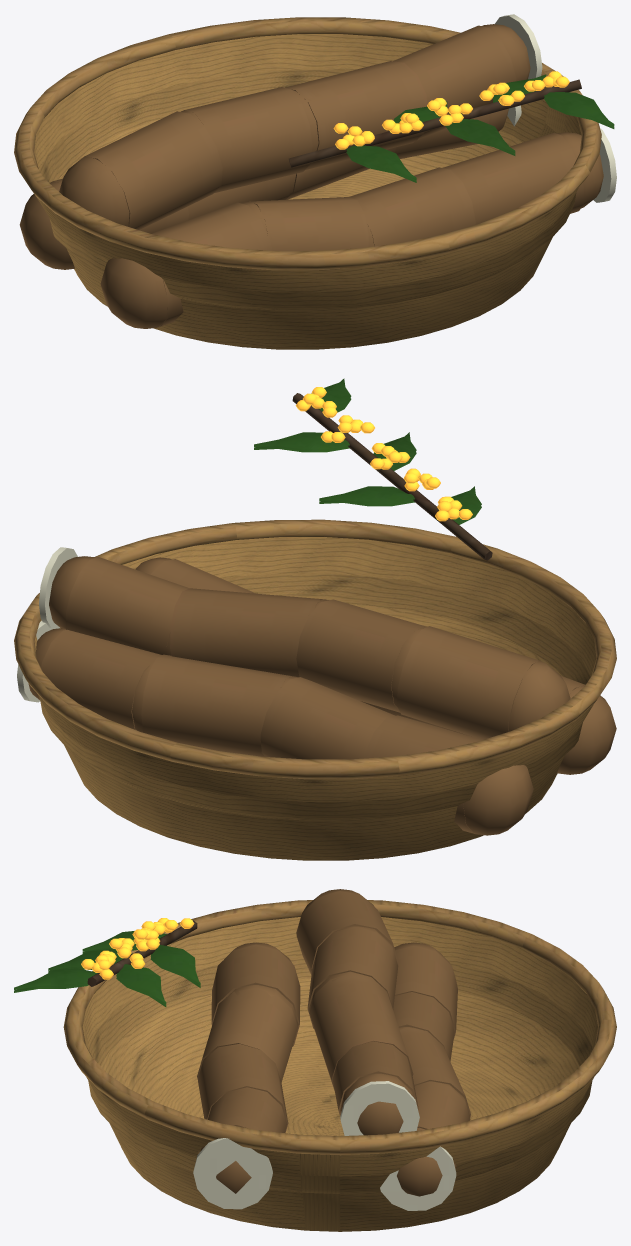
Rendered from PROP_Season_Stand_Yam.glb.
3 views of the same model, one above another, from view 1: azimuth 30°, elevation 25°; view 2: azimuth 150°, elevation 25°; view 3: azimuth 270°, elevation 25° (orthographic). The views are drawn at different scales.
Parts seen in each view (by area): view 1: PROP_Season_Stand_Yam; view 2: PROP_Season_Stand_Yam; view 3: PROP_Season_Stand_Yam.
Boxes of the visible parts, box(x1,y1,x2,y2) form: PROP_Season_Stand_Yam: box(14, 14, 616, 349); PROP_Season_Stand_Yam: box(14, 378, 616, 860); PROP_Season_Stand_Yam: box(14, 889, 616, 1231).
Size of the model in its own units: 0.2761 by 0.1268 by 0.2866.
Materials: 8 (8 with a texture image).
